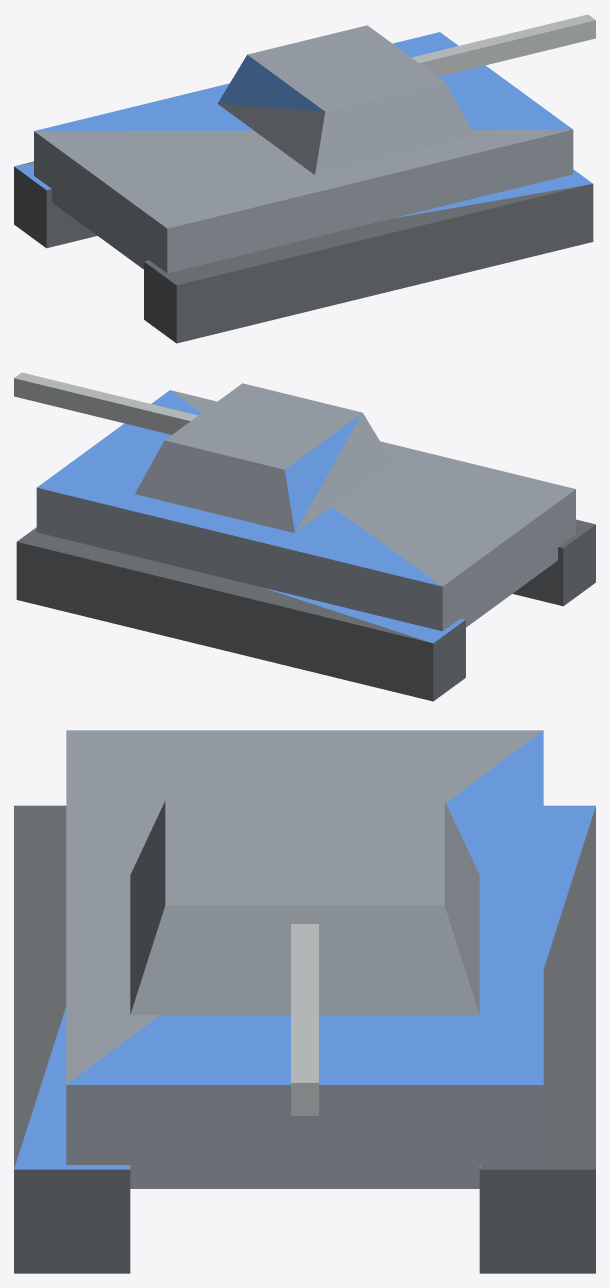
Rendered from veyran_light_tank.glb.
3 views of the same model, one above another, from view 1: azimuth 30°, elevation 25°; view 2: azimuth 150°, elevation 25°; view 3: azimuth 270°, elevation 25° (orthographic). The views are drawn at different scales.
Visible parts, largest first — view 1: hull, turret, barrel; view 2: hull, turret, barrel; view 3: hull, turret, barrel.
Part boxes in pixels (box(x1,y1,x2,y2)): hull: box(14, 32, 593, 343); turret: box(217, 25, 474, 174); barrel: box(412, 14, 595, 76); hull: box(16, 390, 595, 701); turret: box(135, 383, 392, 532); barrel: box(14, 372, 197, 434); hull: box(14, 730, 595, 1273); turret: box(130, 800, 479, 1014); barrel: box(291, 924, 318, 1115).
Size of the model in its own units: 5.12 by 1.52 by 2.9.
